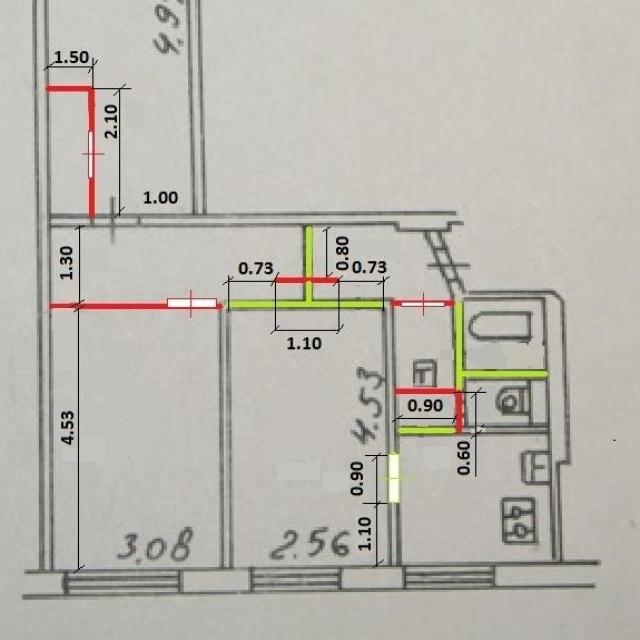Bathrooms: (465, 301, 545, 369), (396, 307, 455, 387), (467, 380, 548, 424)
Corridors: (52, 229, 304, 301), (314, 226, 451, 300), (51, 94, 88, 211), (398, 395, 455, 425)
Doors: (92, 194, 141, 245), (165, 286, 220, 319), (375, 454, 410, 504), (425, 246, 473, 282), (79, 131, 106, 181), (400, 292, 447, 318), (399, 426, 458, 436), (276, 276, 338, 284), (458, 393, 466, 419)
LBwalls: (545, 290, 571, 463), (498, 561, 605, 588), (180, 568, 251, 593), (341, 566, 404, 592), (21, 570, 66, 598)
Offices: (54, 311, 220, 569), (234, 311, 386, 566), (49, 0, 191, 213), (403, 438, 549, 562)
Walls: (139, 0, 465, 248), (221, 282, 398, 453), (396, 280, 548, 394), (33, 0, 56, 570), (220, 309, 232, 567), (48, 85, 96, 132), (51, 178, 96, 227), (456, 419, 548, 436), (550, 463, 562, 560), (387, 504, 403, 565), (50, 303, 168, 310), (303, 226, 312, 274), (392, 299, 403, 306), (446, 300, 453, 307)
Windows: (66, 570, 180, 596), (404, 564, 496, 590), (250, 567, 342, 592)
